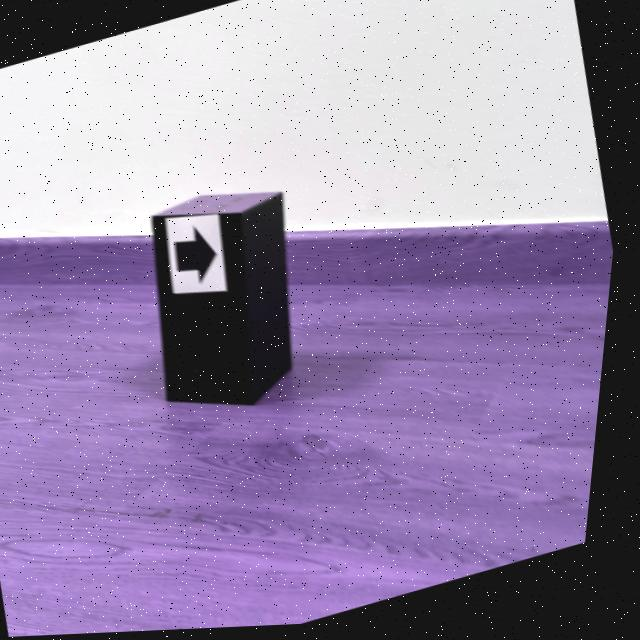RIGHT: (180, 230, 221, 282)
